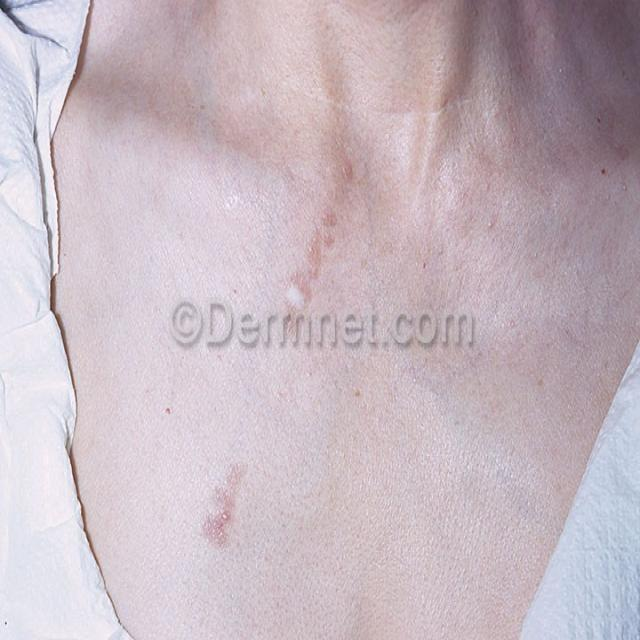Eczema: (278, 202, 363, 317), (202, 462, 254, 561)
